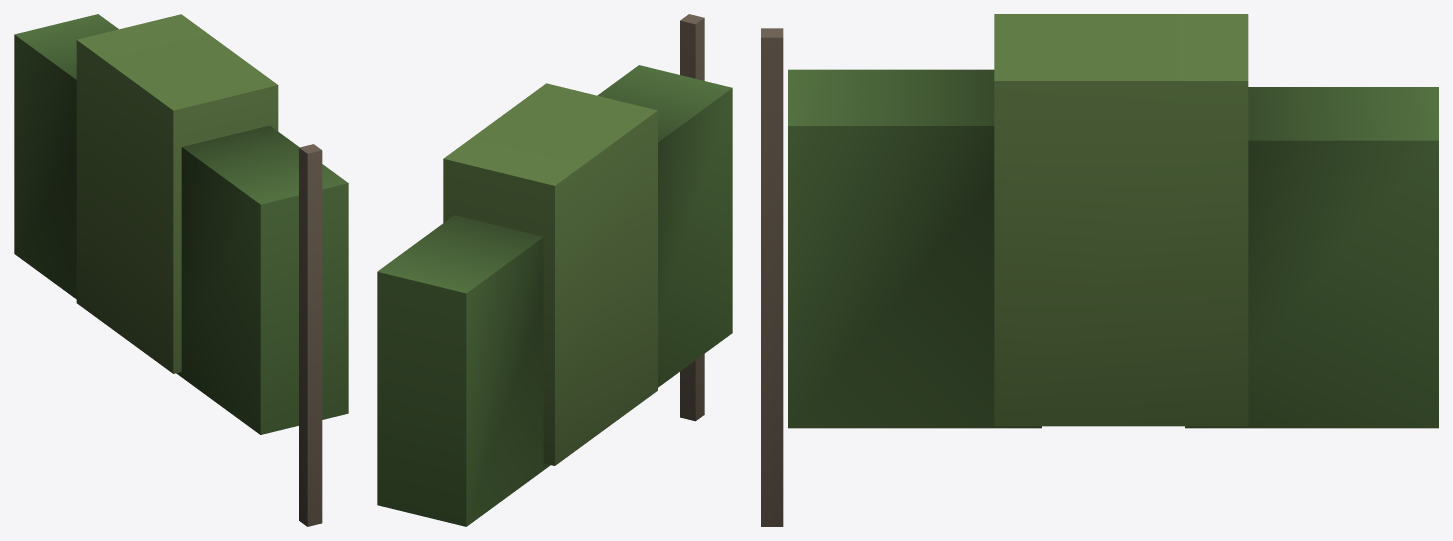
The model's file is rebe.glb.
The picture shows the model from 3 angles, left to right: view 1: azimuth 30°, elevation 25°; view 2: azimuth 150°, elevation 25°; view 3: azimuth 270°, elevation 25°; orthographic projection. The views are drawn at different scales.
Visible parts, largest first — view 1: lack; view 2: lack; view 3: lack.
Boxes of the visible parts, <box> form: lack: <box>14,14,348,526</box>; lack: <box>377,14,732,526</box>; lack: <box>761,14,1438,526</box>.
Size of the model in its own units: 0.4999 by 1.7 by 2.13.
